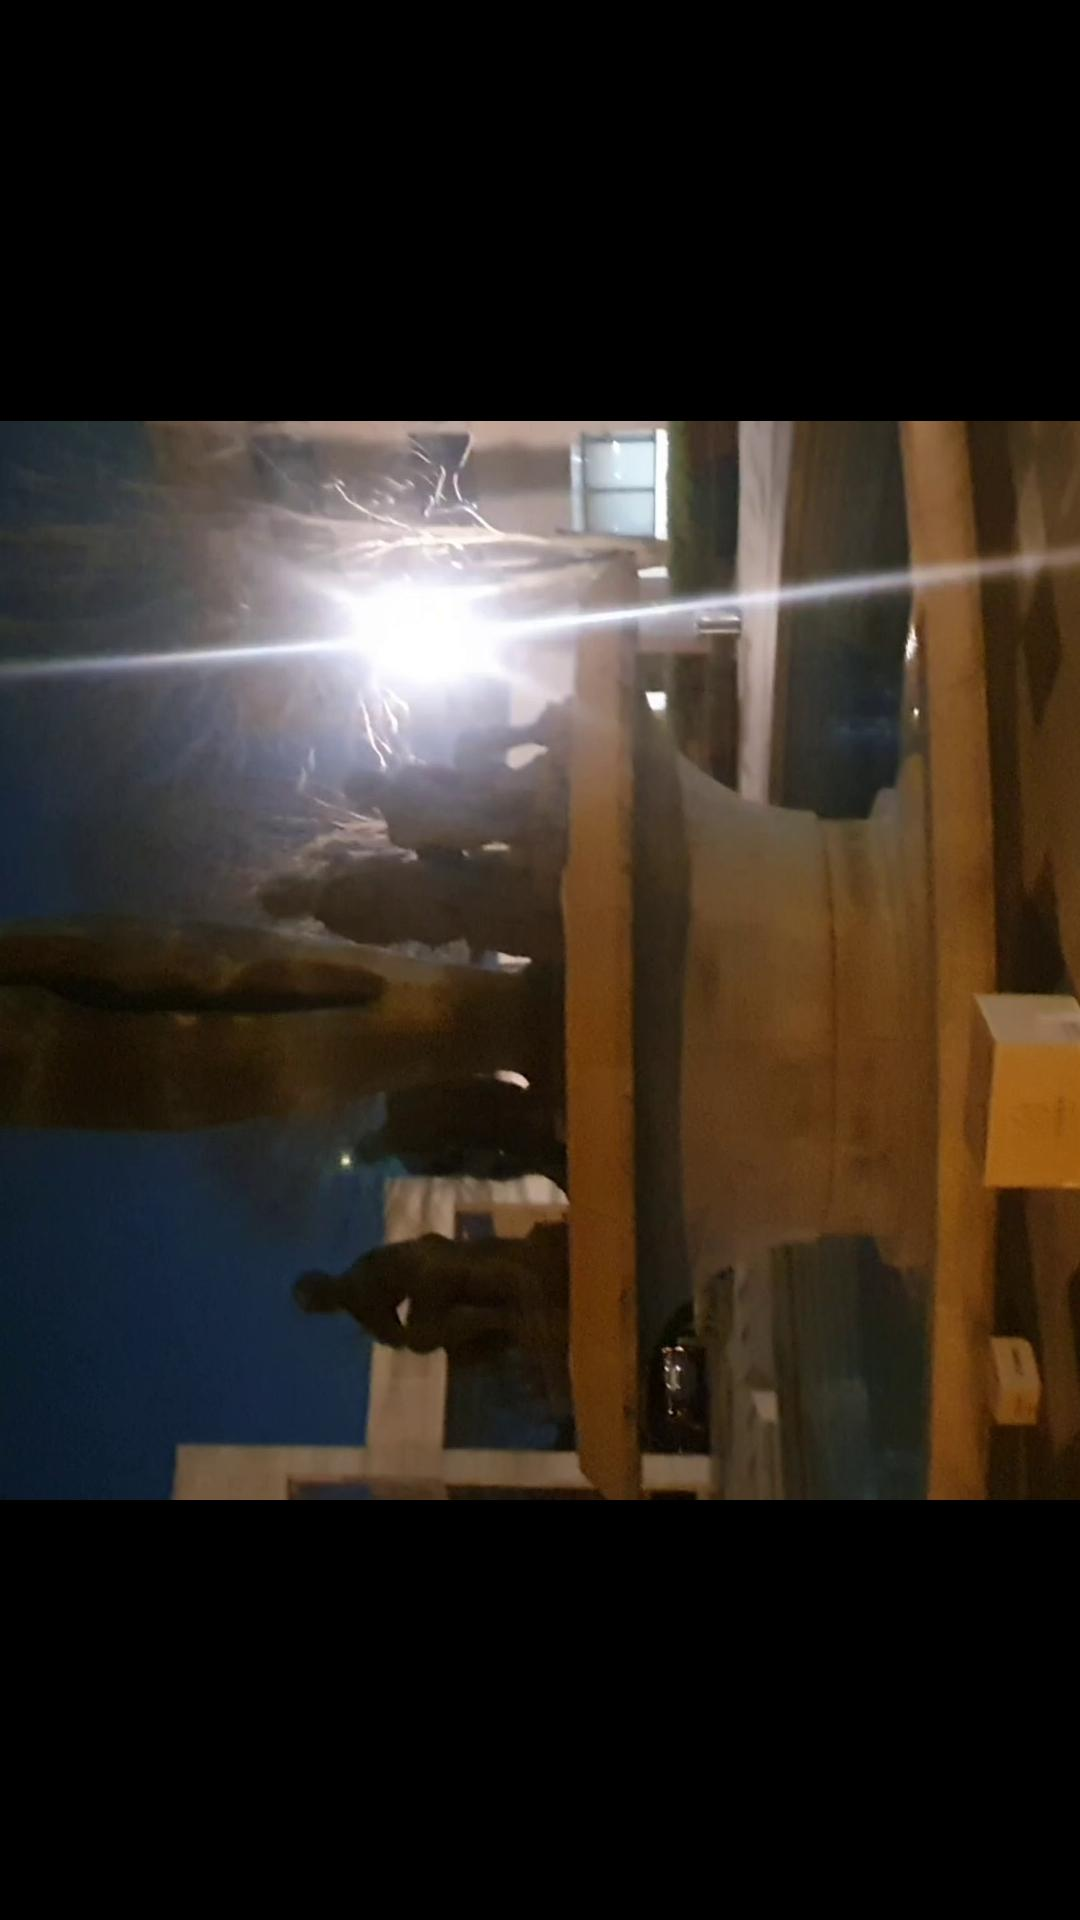Box: (957, 980, 1080, 1199), (965, 1335, 1047, 1432)
